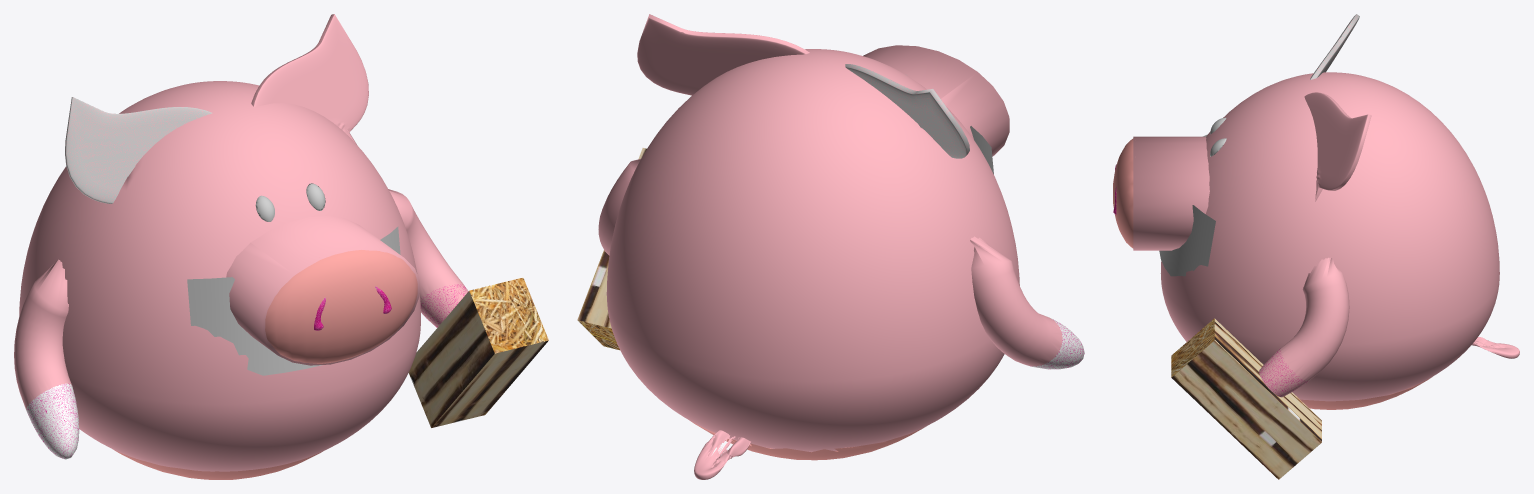
The model's file is pink_pig_wood.dae.
The picture shows the model from 3 angles, left to right: view 1: azimuth 30°, elevation 25°; view 2: azimuth 150°, elevation 25°; view 3: azimuth 270°, elevation 25°; orthographic projection. The views are drawn at different scales.
Parts seen in each view (by area): view 1: group_0 (×10), group_2 (×2), group_1; view 2: group_0 (×8), group_1 (×2), group_2 (×2); view 3: group_0 (×9), group_2 (×2), group_1.
Part boxes in pixels (box(x1,y1,x2,y2)): group_0 (×10): box(14, 81, 468, 479); group_2 (×2): box(408, 277, 548, 427); group_1: box(251, 14, 368, 145); group_0 (×8): box(598, 45, 1084, 479); group_1 (×2): box(637, 14, 809, 95); group_2 (×2): box(577, 148, 646, 350); group_0 (×9): box(1113, 14, 1519, 409); group_2 (×2): box(1171, 318, 1321, 479); group_1: box(1304, 92, 1371, 201).
Bounding box in the file's own units: 35.52 × 32.78 × 29.86.
